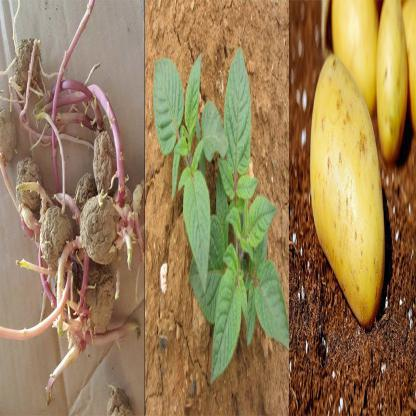potato: (307, 50, 390, 321)
